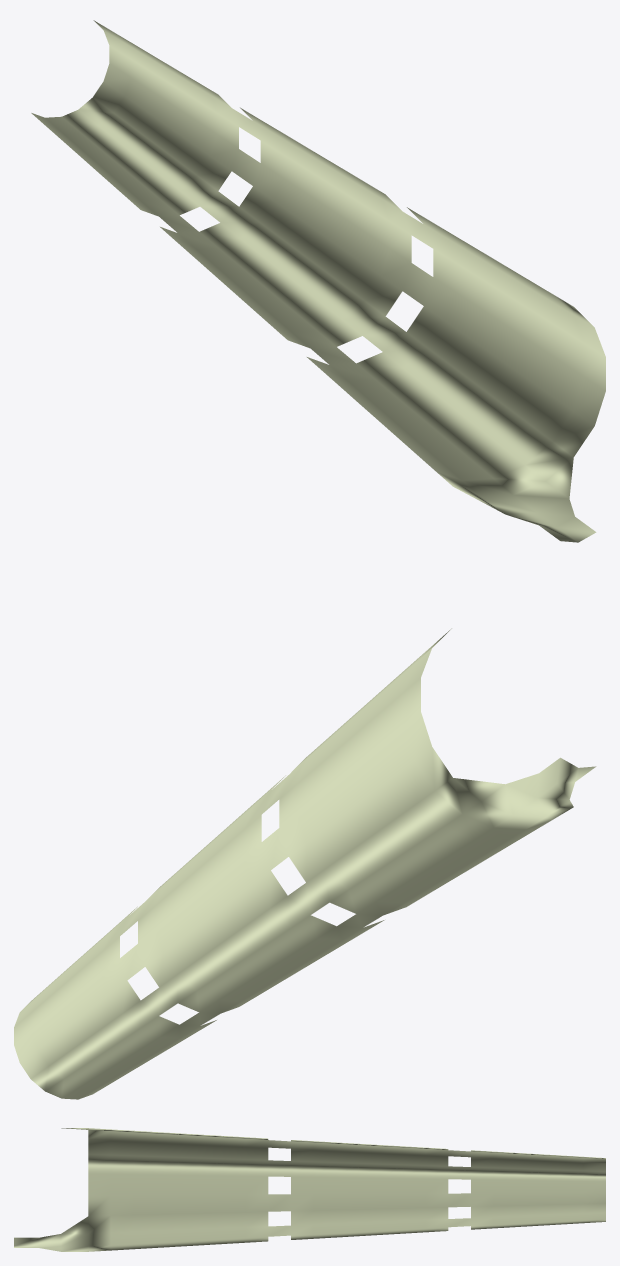
File: sign_windsock_1_a.glb
The picture shows the model from 3 angles, top to bottom: view 1: azimuth 30°, elevation 25°; view 2: azimuth 150°, elevation 25°; view 3: azimuth 270°, elevation 25°; orthographic projection. The views are drawn at different scales.
Bounding box in the file's own units: 0.4728 × 0.48 × 2.29.
